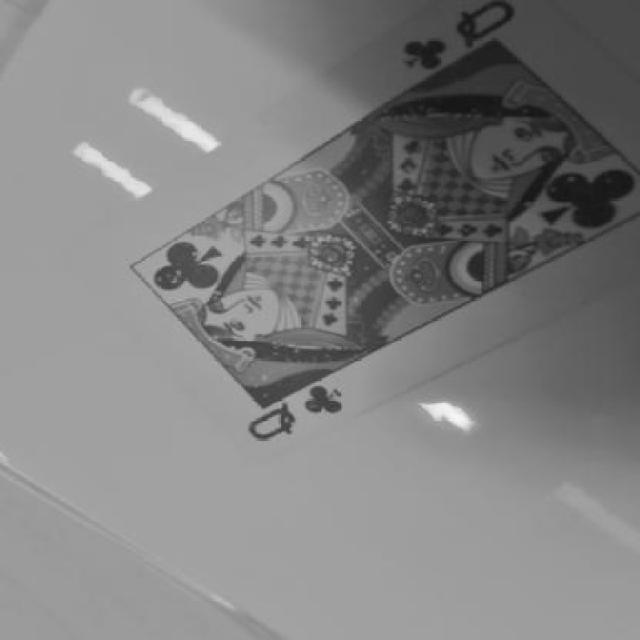QC: (377, 0, 529, 86), (238, 371, 359, 449)
